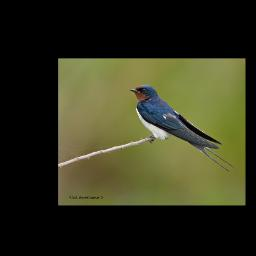Swallow: (129, 85, 236, 173)
